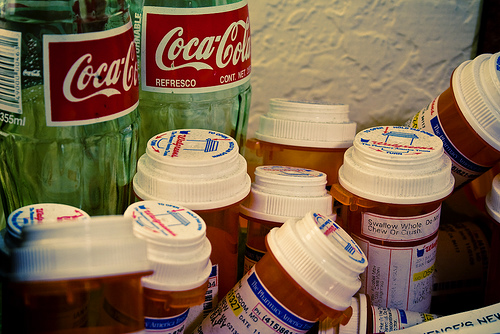pill bottle: (333, 124, 456, 316)
